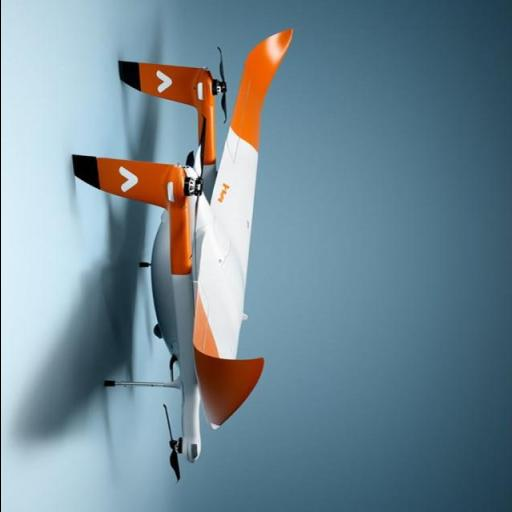uav: (70, 20, 296, 487)
